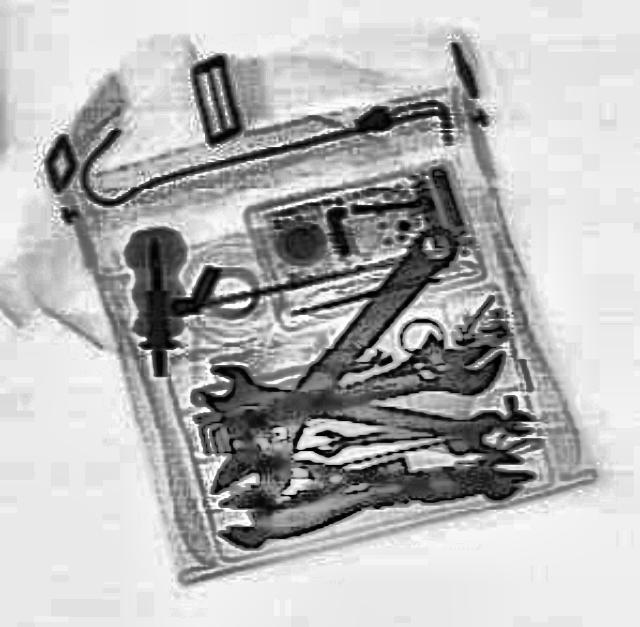Wrench: (198, 212, 477, 524), (212, 334, 508, 448), (198, 357, 506, 458)
